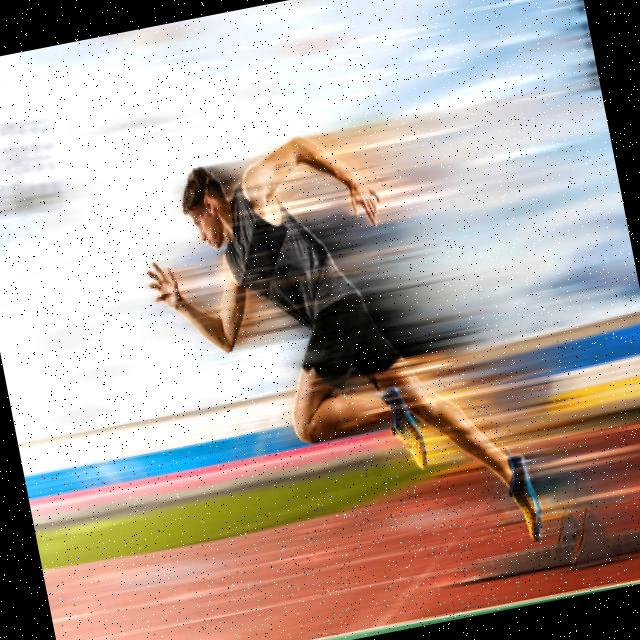Person: (125, 105, 545, 602)
